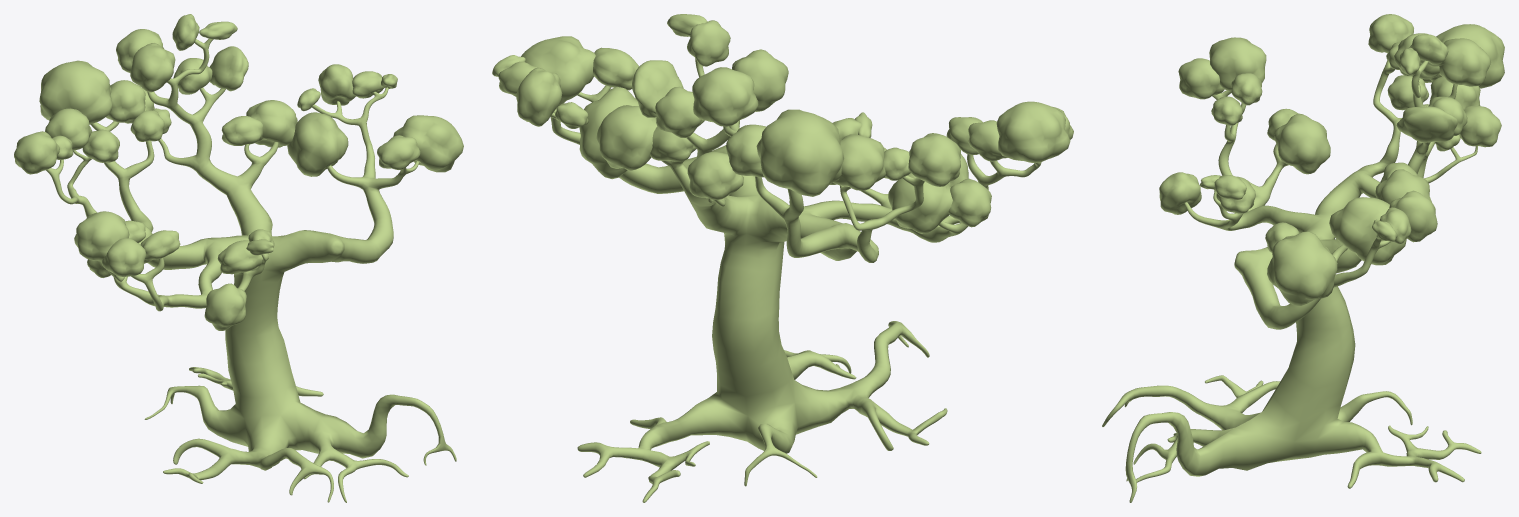
The model's file is tree.fbx.
3 renders of one model, left to right at view 1: azimuth 30°, elevation 25°; view 2: azimuth 150°, elevation 25°; view 3: azimuth 270°, elevation 25°, orthographic. The views are drawn at different scales.
Visible parts, largest first — view 1: polySurface590; view 2: polySurface590; view 3: polySurface590.
Boxes of the visible parts, x1,y1,x2,y2 form: polySurface590: (14,14,463,502); polySurface590: (492,14,1073,502); polySurface590: (1102,14,1504,502).
Size of the model in its own units: 460 by 416 by 363.
